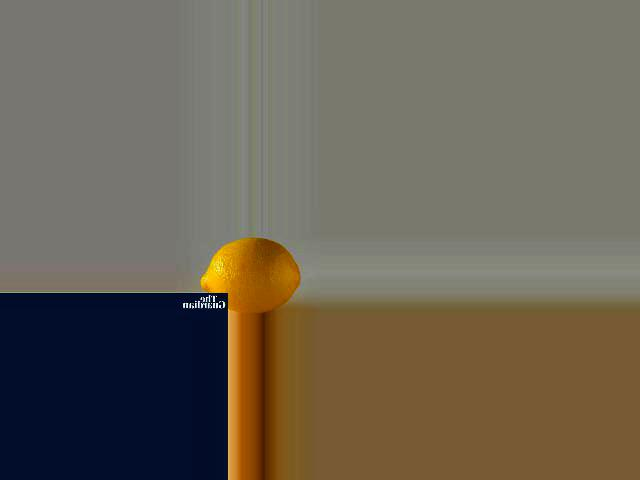lemon: (197, 237, 308, 313)
